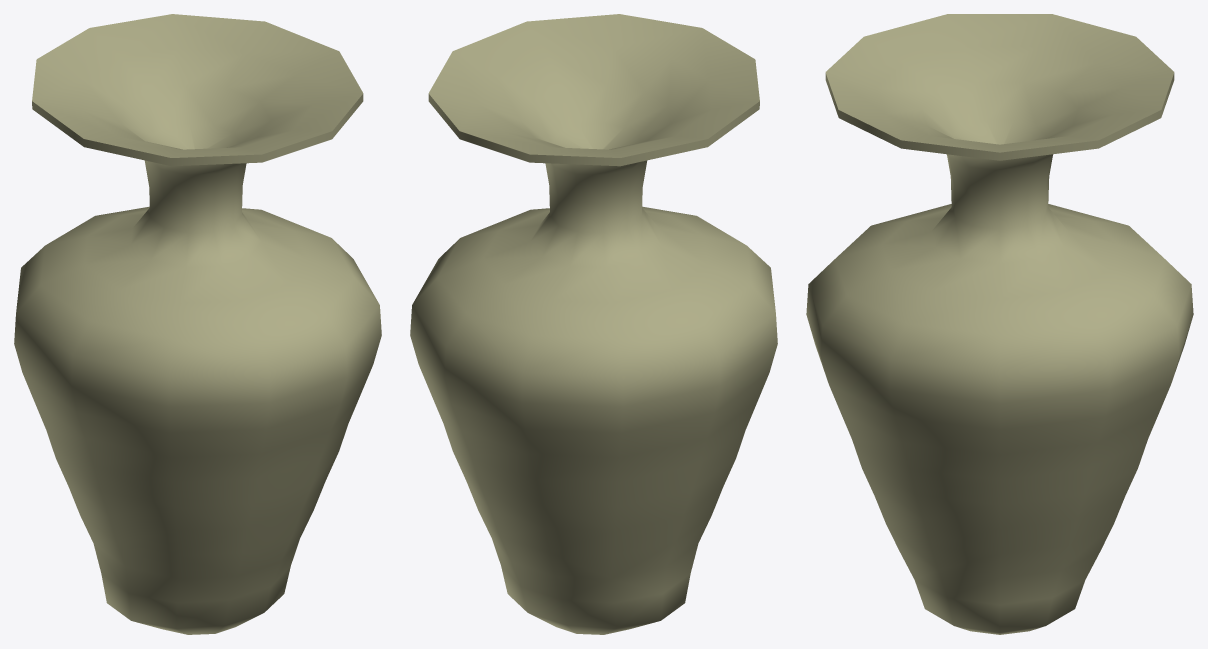
File: JARRON.fbx
3 renders of one model, left to right at view 1: azimuth 30°, elevation 25°; view 2: azimuth 150°, elevation 25°; view 3: azimuth 270°, elevation 25°, orthographic.
Visible parts, largest first — view 1: jarron; view 2: jarron; view 3: jarron.
Boxes of the visible parts, x1,y1,x2,y2 form: jarron: (14, 14, 381, 634); jarron: (410, 14, 777, 634); jarron: (806, 14, 1193, 634).
Bounding box in the file's own units: 27.56 × 44.44 × 29.31.
